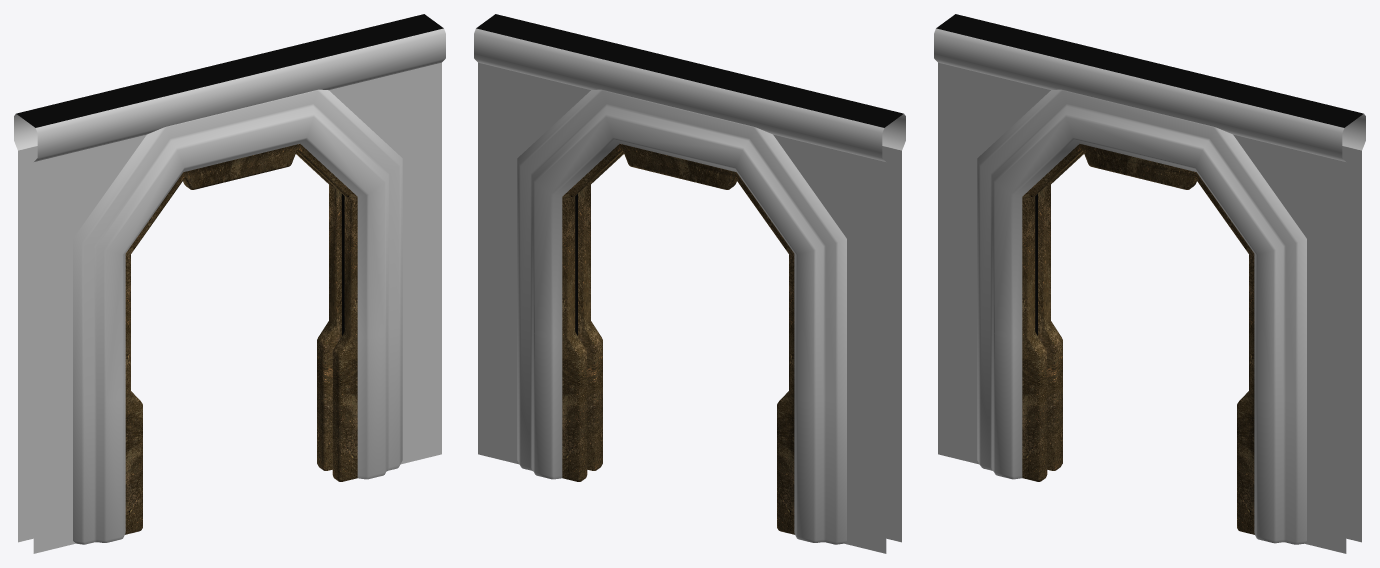
The model's file is DG_DoorFrameLarge_A.FBX.
3 views of the same model, side by side, from view 1: azimuth 30°, elevation 25°; view 2: azimuth 150°, elevation 25°; view 3: azimuth 330°, elevation 25° (orthographic).
Parts seen in each view (by area): view 1: DG_DoorFrameLarge_A; view 2: DG_DoorFrameLarge_A; view 3: DG_DoorFrameLarge_A.
Part boxes in pixels (x1,y1,x2,y2): DG_DoorFrameLarge_A: (14, 14, 445, 553); DG_DoorFrameLarge_A: (474, 14, 905, 553); DG_DoorFrameLarge_A: (934, 14, 1365, 553).
Bounding box in the file's own units: 300 × 300 × 40.
